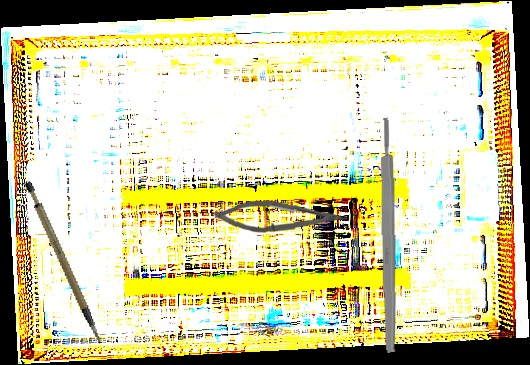Micro Scissor: (213, 196, 347, 235)
Scalpel Handle: (22, 173, 103, 354), (379, 117, 398, 353)
